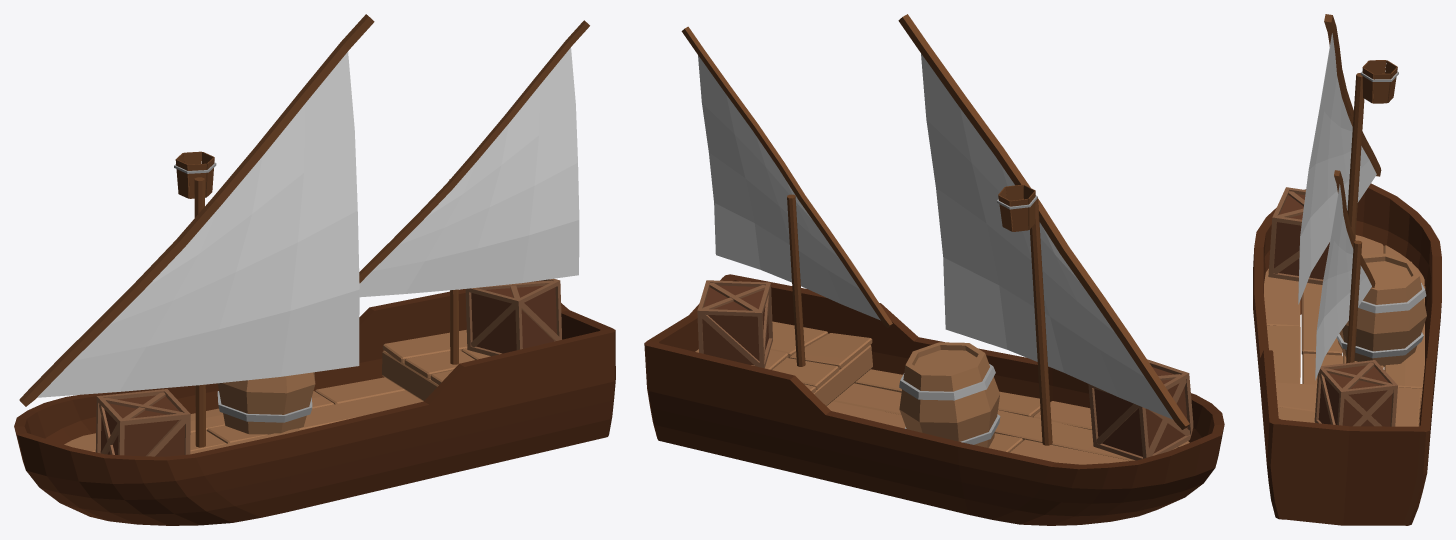
The picture shows the model from 3 angles, left to right: view 1: azimuth 30°, elevation 25°; view 2: azimuth 150°, elevation 25°; view 3: azimuth 270°, elevation 25°; orthographic projection. The views are drawn at different scales.
Parts seen in each view (by area): view 1: Cube.020; view 2: Cube.020; view 3: Cube.020.
Boxes of the visible parts, x1,y1,x2,y2 form: Cube.020: (14,14,615,525); Cube.020: (644,14,1224,525); Cube.020: (1253,14,1441,525).
Size of the model in its own units: 403 by 314 by 128.
